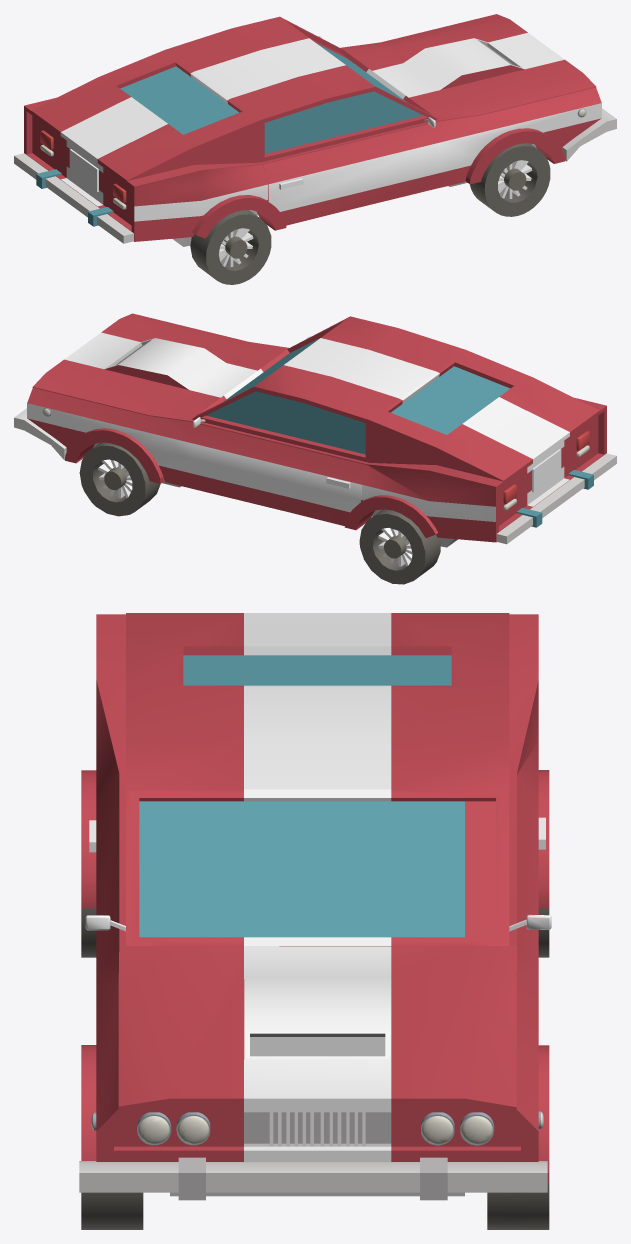
Rendered from redCar.glb.
The picture shows the model from 3 angles, top to bottom: view 1: azimuth 30°, elevation 25°; view 2: azimuth 150°, elevation 25°; view 3: azimuth 270°, elevation 25°; orthographic projection. The views are drawn at different scales.
Visible parts, largest first — view 1: Object_8, Object_2, Object_16, Object_14, Object_13, Object_15, Object_5; view 2: Object_8, Object_2, Object_16, Object_14, Object_13, Object_15, Object_5; view 3: Object_8, Object_16, Object_2, Object_13, Object_10, Object_14, Object_4, Object_6, Object_7.
Boxes of the visible parts, box(x1,y1,x2,y2) form: Object_8: box(24, 14, 601, 241); Object_2: box(60, 33, 601, 266); Object_16: box(36, 43, 423, 226); Object_14: box(190, 143, 550, 284); Object_13: box(14, 108, 616, 243); Object_15: box(222, 167, 526, 258); Object_5: box(40, 130, 126, 203); Object_8: box(27, 313, 606, 542); Object_2: box(27, 332, 569, 566); Object_16: box(206, 337, 593, 527); Object_14: box(79, 442, 440, 584); Object_13: box(14, 408, 616, 544); Object_15: box(104, 467, 409, 558); Object_5: box(503, 431, 589, 503); Object_8: box(81, 613, 549, 1183); Object_16: box(139, 655, 464, 937); Object_2: box(85, 613, 551, 1161); Object_13: box(79, 1161, 547, 1192); Object_10: box(178, 1033, 447, 1200); Object_14: box(81, 908, 549, 1229); Object_4: box(170, 1037, 464, 1196); Object_6: box(91, 1112, 543, 1144); Object_7: box(94, 1111, 540, 1145).
Size of the model in its own units: 175 by 51.49 by 72.05.
